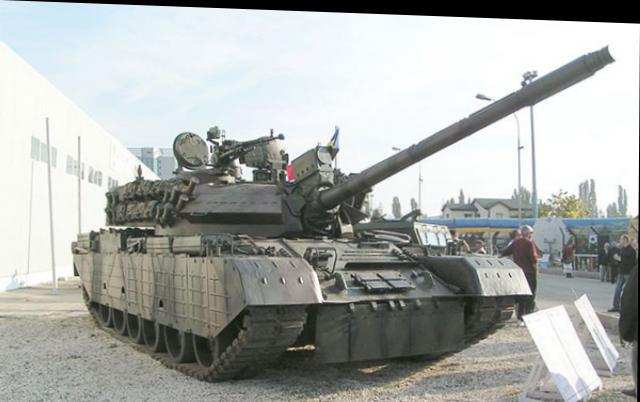other: (611, 226, 634, 312), (516, 218, 537, 270)
tank: (69, 122, 522, 362)
